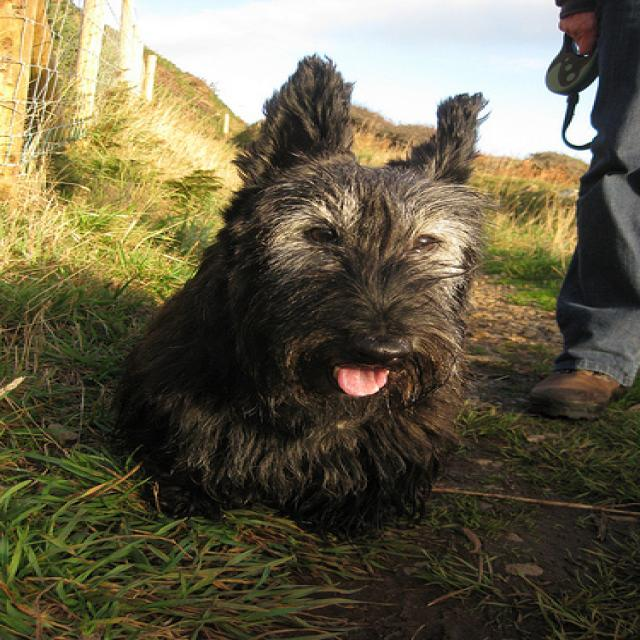dog-scottish_terrier: (96, 42, 505, 540)
